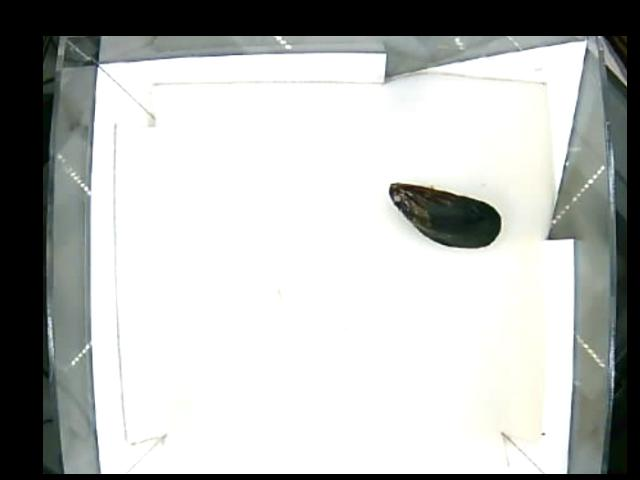Shell: (386, 181, 501, 249)
